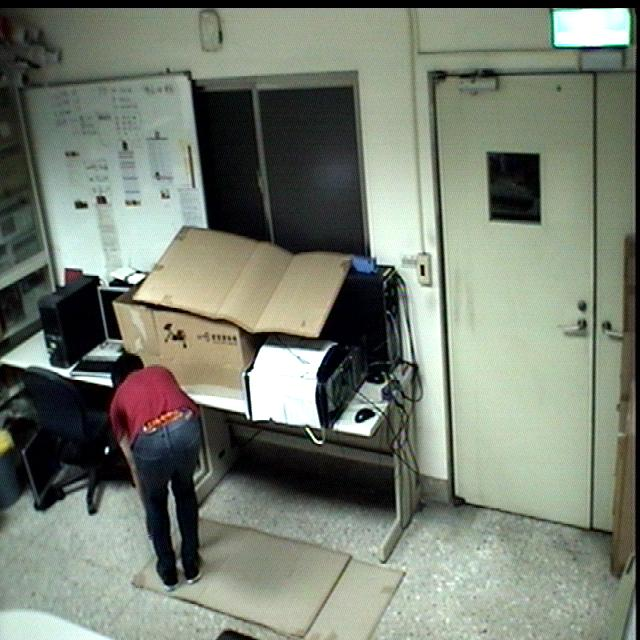bend: (98, 347, 213, 593)
